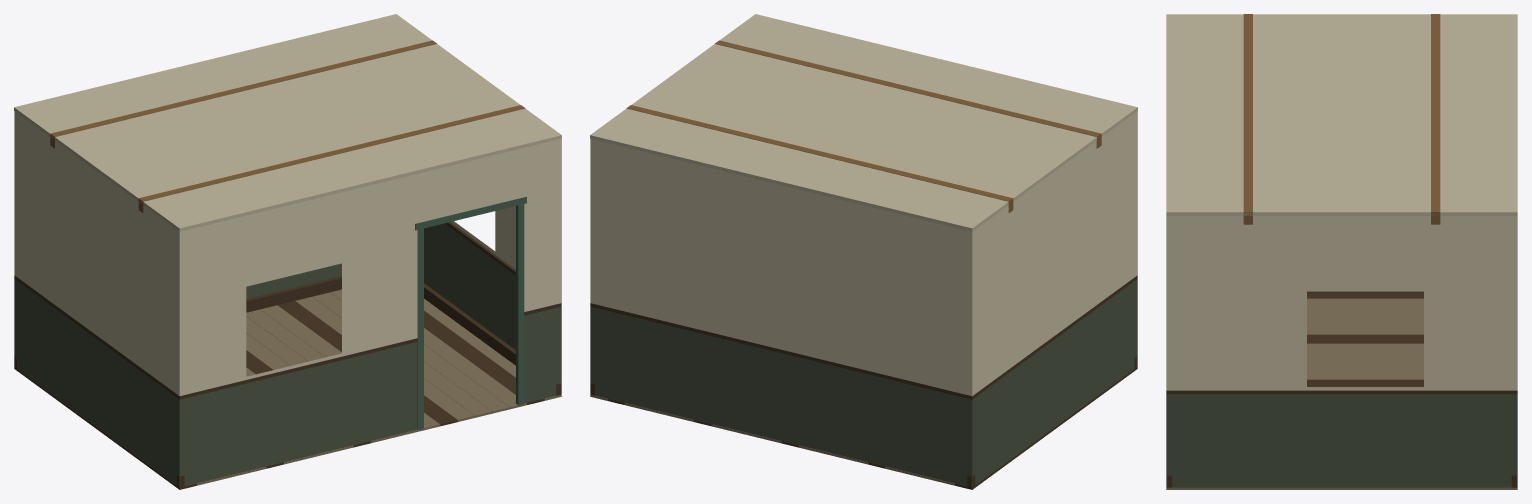
Rendered from SM_FieldStation_Hut_Interior.fbx.
The picture shows the model from 3 angles, left to right: view 1: azimuth 30°, elevation 25°; view 2: azimuth 150°, elevation 25°; view 3: azimuth 270°, elevation 25°; orthographic projection. The views are drawn at different scales.
Parts seen in each view (by area): view 1: SM_FieldStation_Hut_Interior; view 2: SM_FieldStation_Hut_Interior; view 3: SM_FieldStation_Hut_Interior.
Part boxes in pixels (x1=…): SM_FieldStation_Hut_Interior: x1=14, y1=14, x2=561, y2=489; SM_FieldStation_Hut_Interior: x1=590, y1=14, x2=1137, y2=489; SM_FieldStation_Hut_Interior: x1=1166, y1=14, x2=1517, y2=489.
Size of the model in its own units: 4 by 3 by 2.62.
